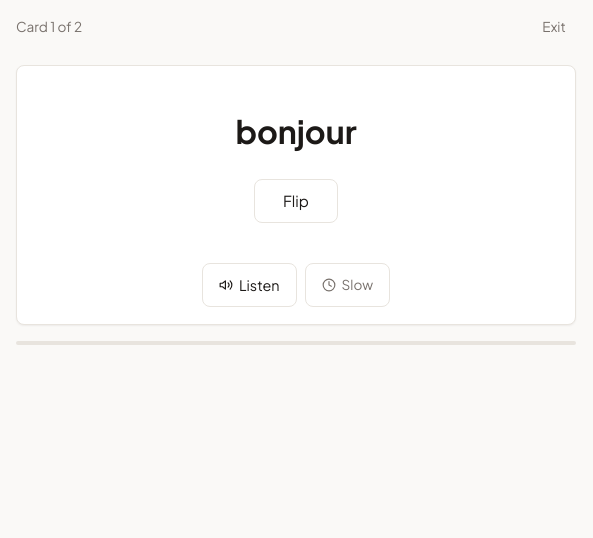
Test case: FlashcardPractice — card progression › records the rating and advances to the next card
Expected: the text "bonjour" is shown, [235, 107, 357, 155]
Click the button with aria-label "Flip card" at (296, 201), box [254, 179, 338, 223]
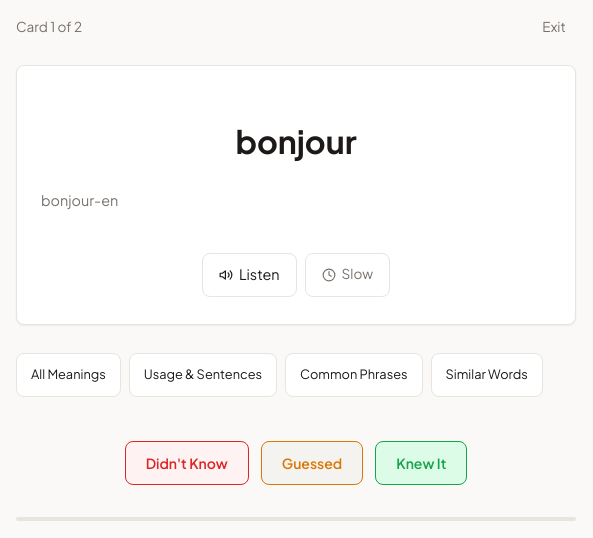
Click the button "Knew It" at (421, 463), box [375, 441, 467, 485]
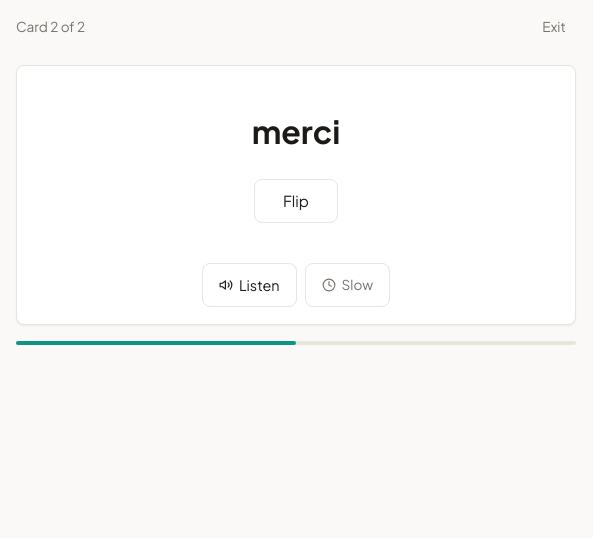
Now the text "Card 2 of 2" is shown, box [16, 17, 85, 37]
Now the text "merci" is shown, box [252, 107, 340, 155]
